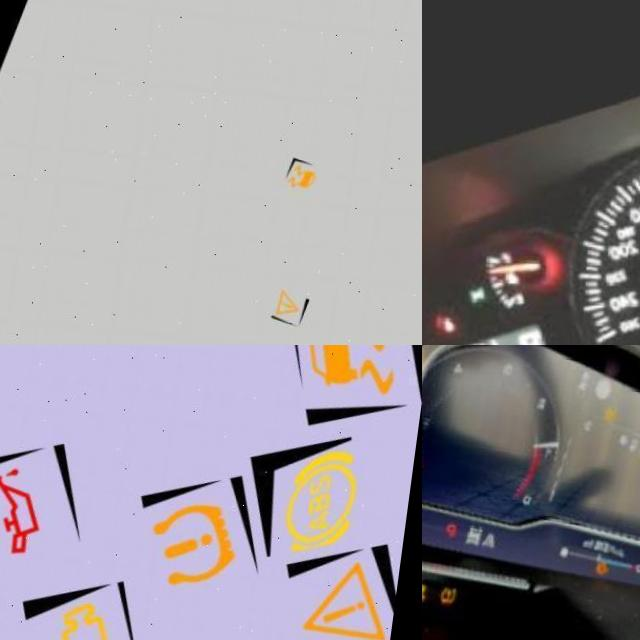Low fuel level: (600, 547, 615, 563)
